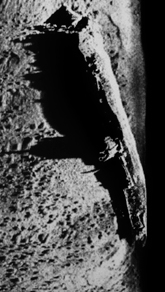ship: (59, 1, 148, 248)
